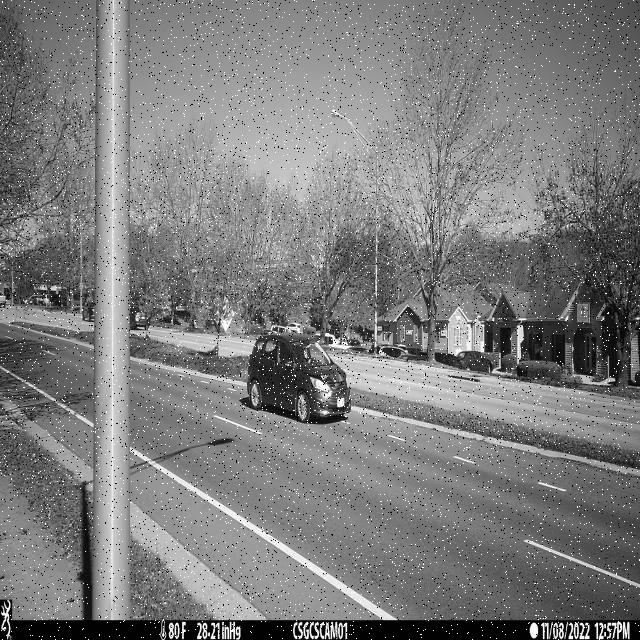SUV: (247, 332, 352, 424)
